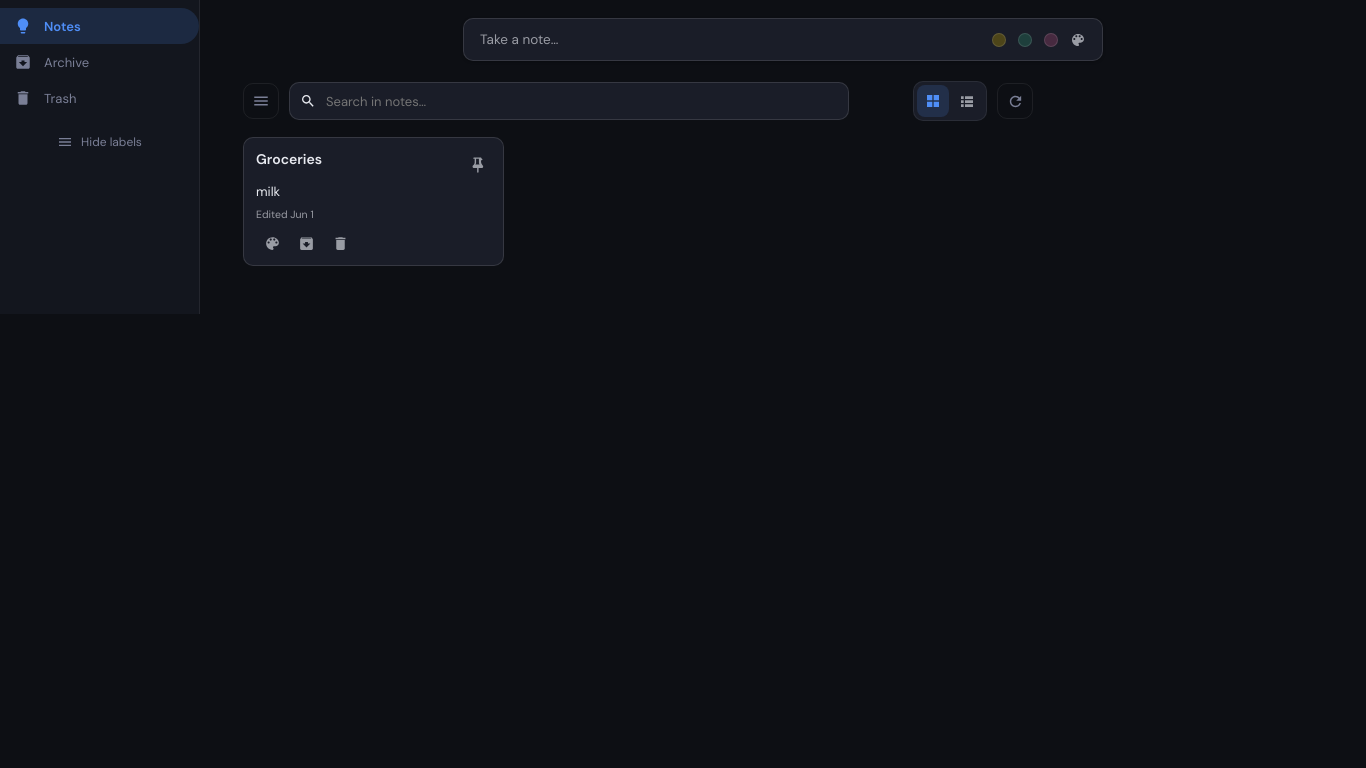
Test: existing notes load, open for editing, and autosave on close
The width and height of the screenshot is (1366, 768).
Check: the button "Groceries milk Edited Jun 1" is shown, box [243,137,504,266]
Click the text "milk": (268, 192) [256,183,280,200]
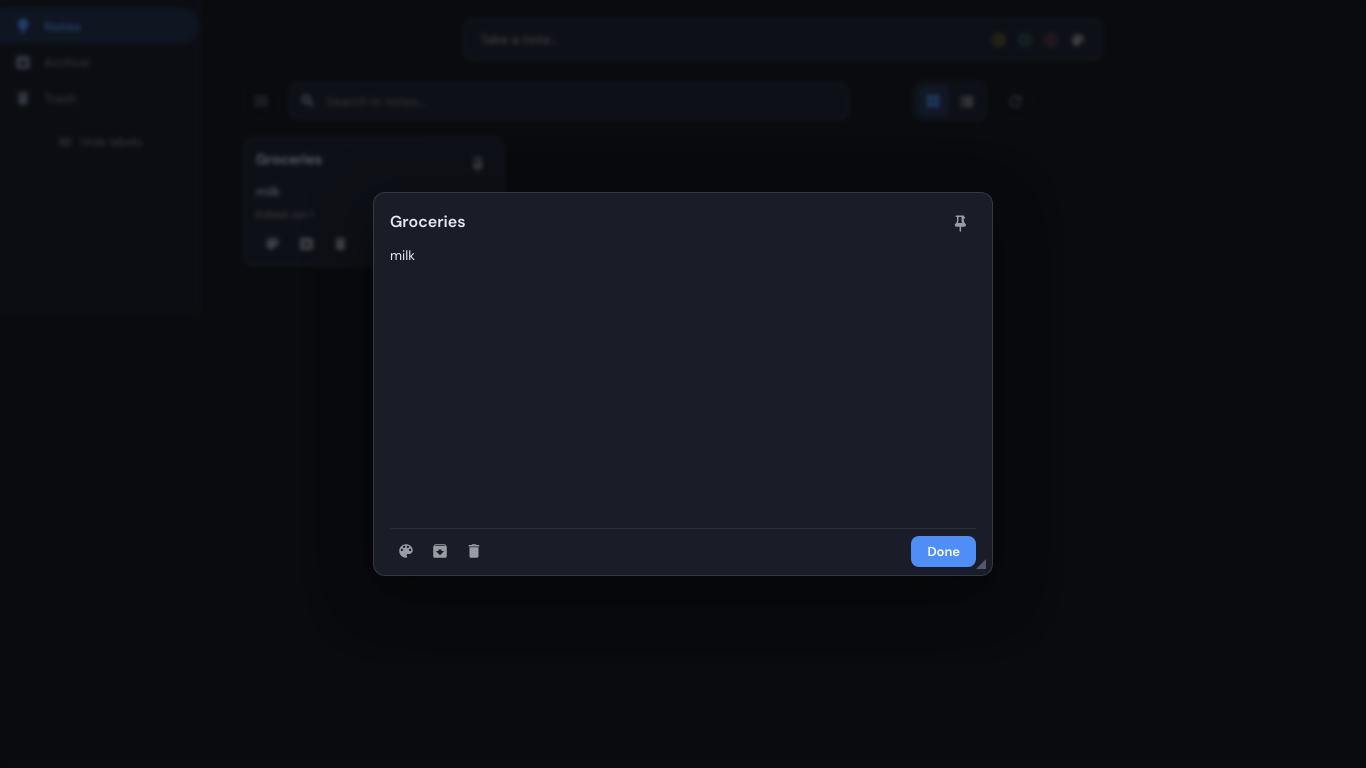
Replace the text in the text box named "Note body" with "milk and honey": (683, 384) [390,239,976,528]
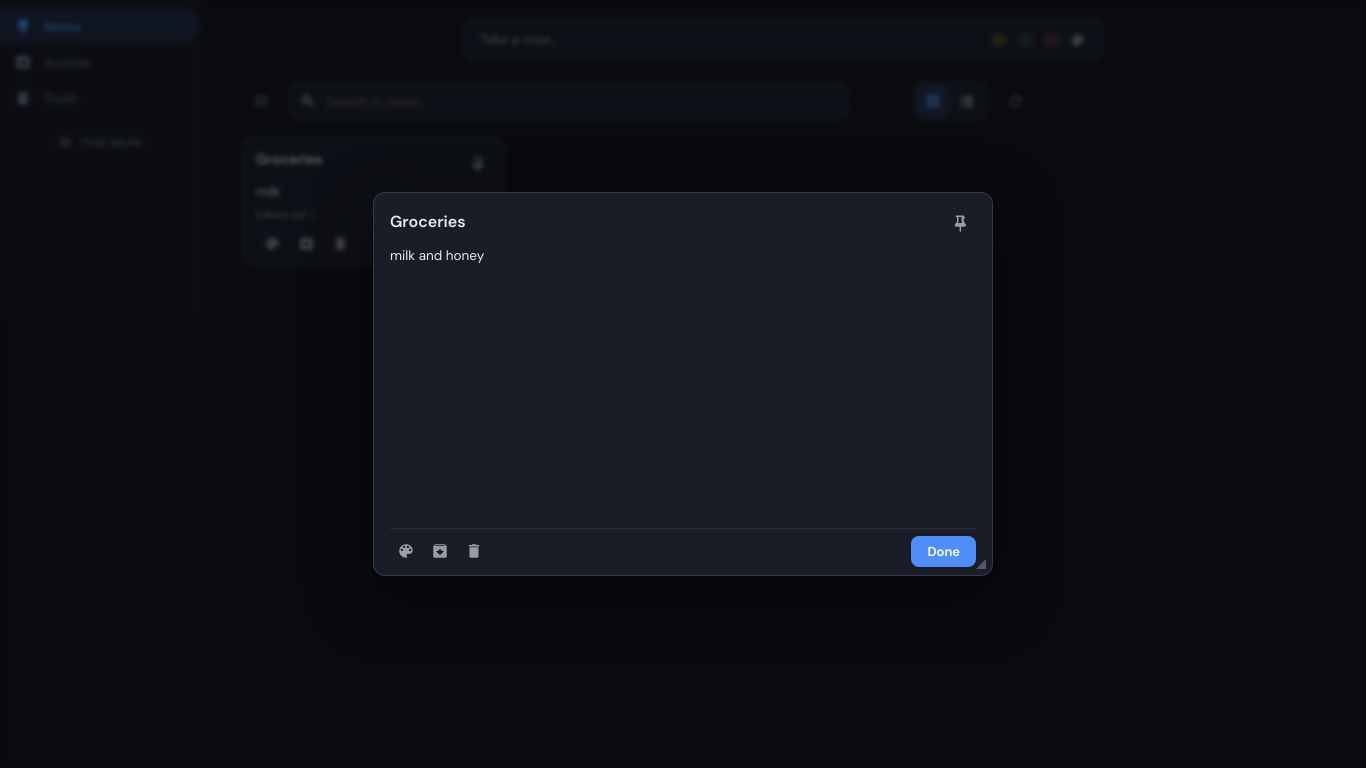
Click the button "Done": (944, 551) [912,536,976,566]
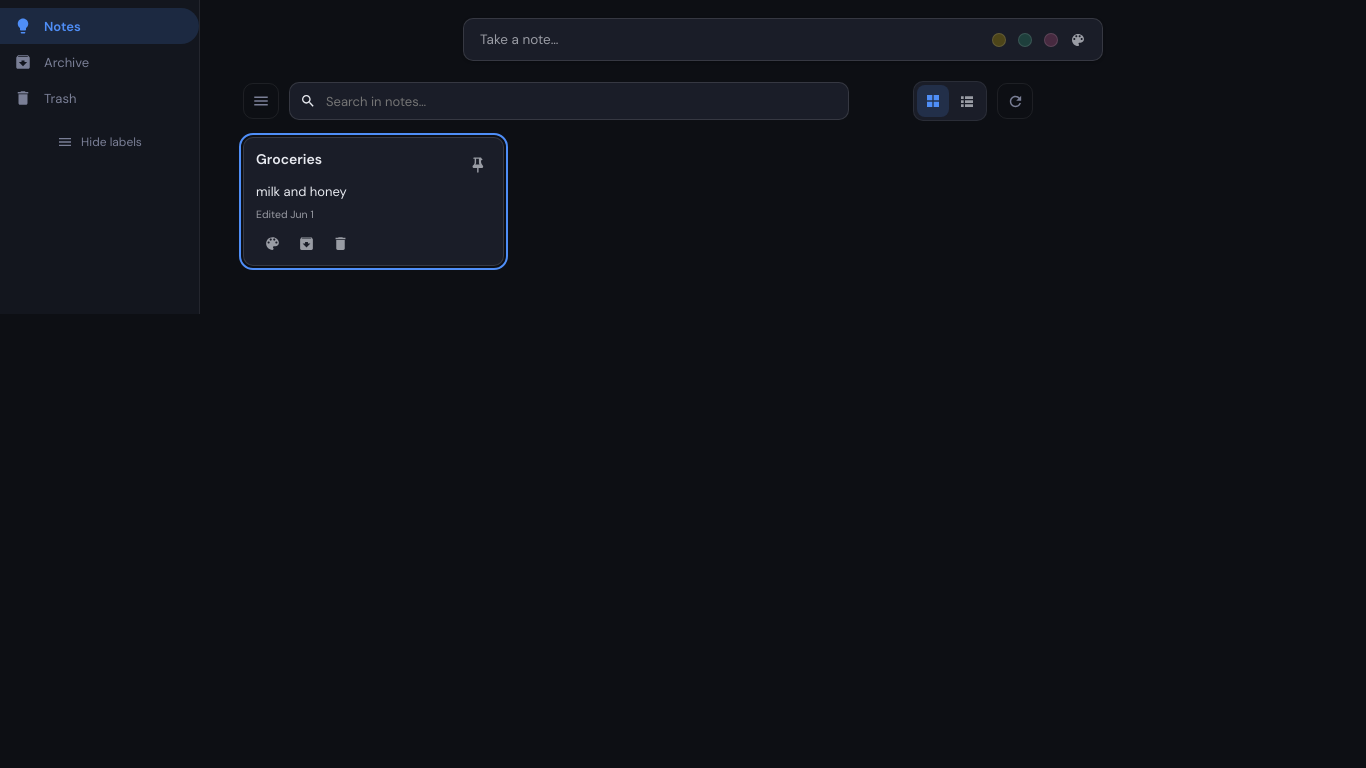
Check: the text "milk" reads "milk and honey", box [256,183,347,200]
